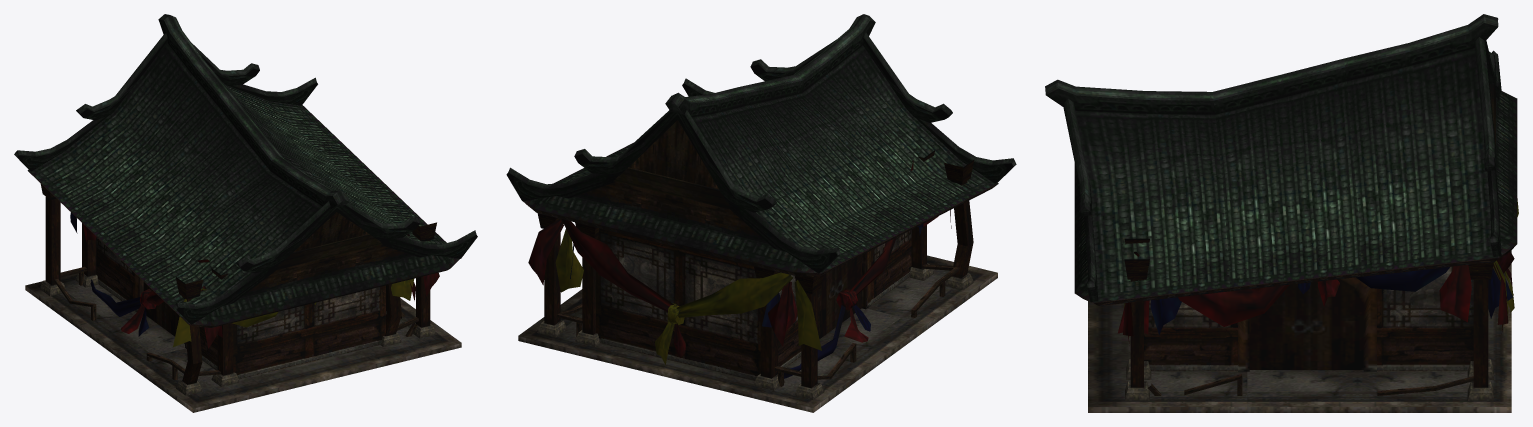
Rendered from c1-032-shamanhouse_01.glb.
3 renders of one model, left to right at view 1: azimuth 30°, elevation 25°; view 2: azimuth 150°, elevation 25°; view 3: azimuth 270°, elevation 25°, orthographic. The views are drawn at different scales.
Parts seen in each view (by area): view 1: c1-032-shamanhouse-1; view 2: c1-032-shamanhouse-1; view 3: c1-032-shamanhouse-1.
Part boxes in pixels (<box>): c1-032-shamanhouse-1: <box>14,14,477,412</box>; c1-032-shamanhouse-1: <box>506,14,1016,412</box>; c1-032-shamanhouse-1: <box>1045,14,1518,412</box>.
Bounding box in the file's own units: 9.89 × 7.86 × 10.68.
2 materials, 2 textured.
